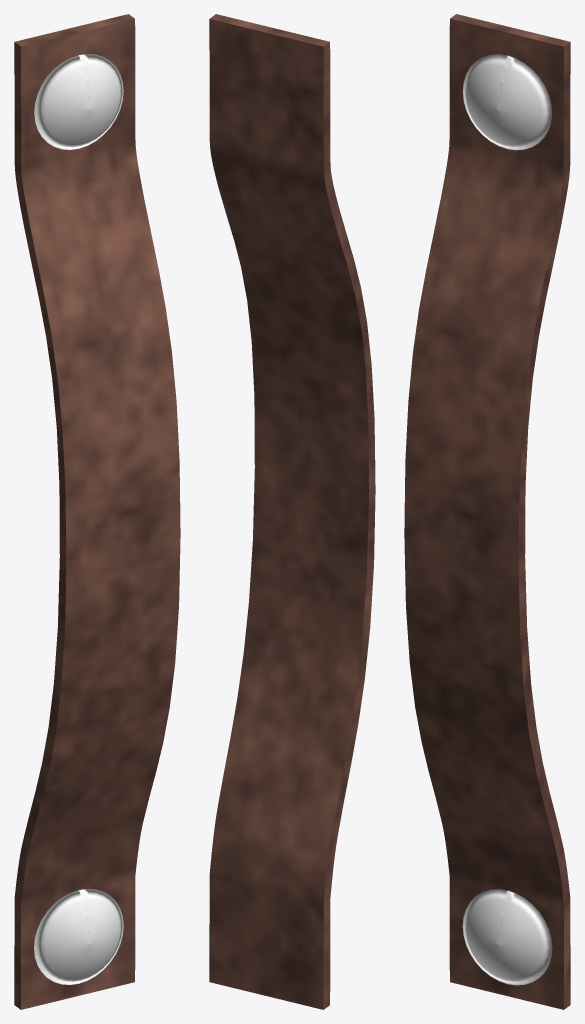
3 views of the same model, side by side, from view 1: azimuth 30°, elevation 25°; view 2: azimuth 150°, elevation 25°; view 3: azimuth 330°, elevation 25° (orthographic).
Visible parts, largest first — view 1: leather.001, chrome1, chrome2; view 2: leather.001; view 3: leather.001, chrome1, chrome2.
Part boxes in pixels (bbox=[...]): leather.001: bbox=[14, 14, 180, 1009]; chrome1: bbox=[34, 888, 123, 984]; chrome2: bbox=[34, 54, 123, 149]; leather.001: bbox=[209, 14, 375, 1009]; leather.001: bbox=[404, 14, 570, 1009]; chrome1: bbox=[462, 889, 552, 985]; chrome2: bbox=[462, 54, 551, 150].
Size of the model in its own units: 0.02 by 0.1613 by 0.0158.
Materials: 2 (1 with a texture image).
